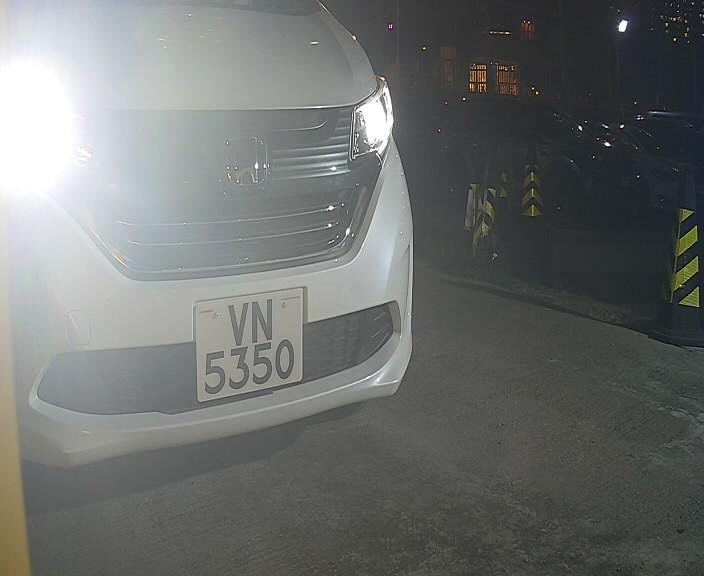privatecar: (16, 1, 434, 505)
